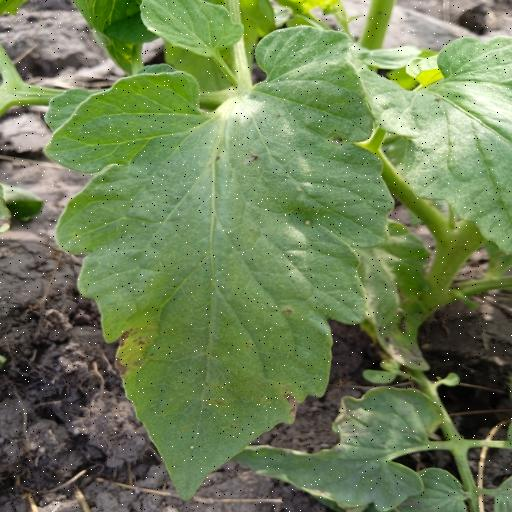Tomato_Brown_Spots: (45, 21, 393, 498)
